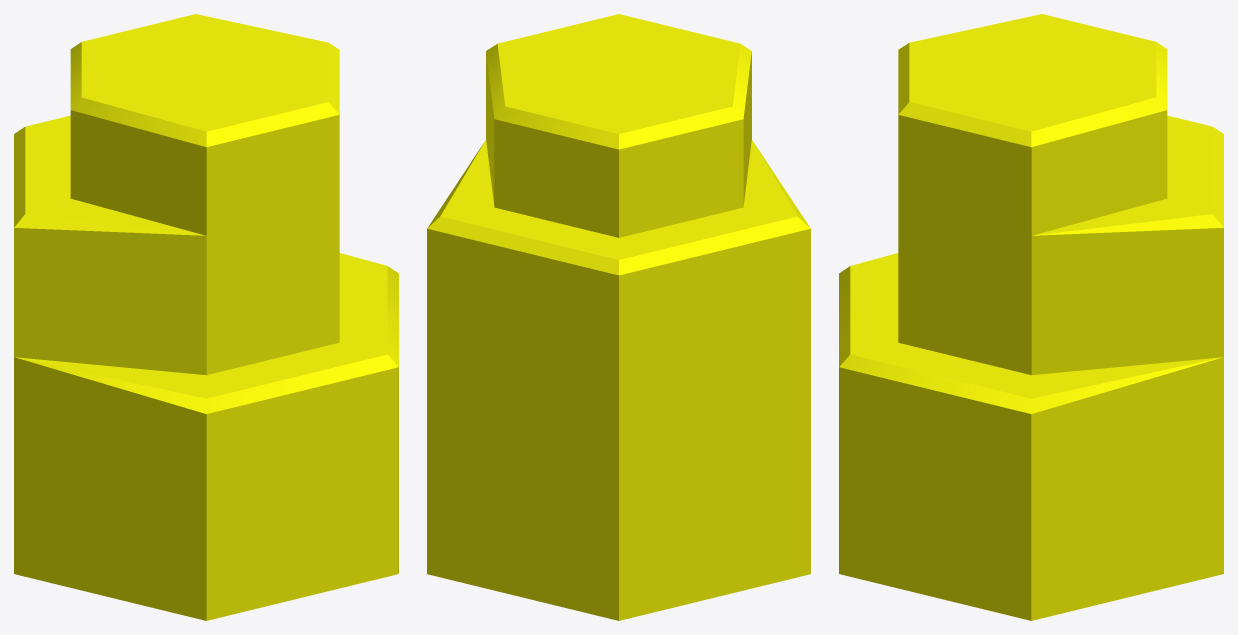
The model's file is kaykit-rock-1-f-color-1.glb.
3 renders of one model, left to right at view 1: azimuth 30°, elevation 25°; view 2: azimuth 150°, elevation 25°; view 3: azimuth 270°, elevation 25°, orthographic.
Visible parts, largest first — view 1: Rock_1_F_Color1; view 2: Rock_1_F_Color1; view 3: Rock_1_F_Color1.
Part boxes in pixels (left/top/right/bottom): Rock_1_F_Color1: left=14, top=14, right=398, bottom=620; Rock_1_F_Color1: left=427, top=14, right=810, bottom=620; Rock_1_F_Color1: left=839, top=14, right=1223, bottom=620.
Size of the model in its own units: 1 by 1.13 by 0.8661.
